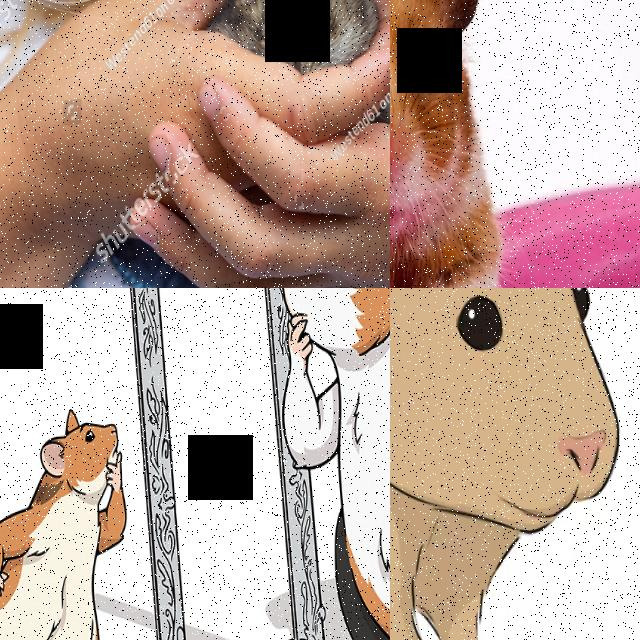hamster: (390, 288, 622, 640), (281, 288, 390, 640), (390, 0, 506, 288), (0, 407, 126, 640), (210, 0, 384, 73)
